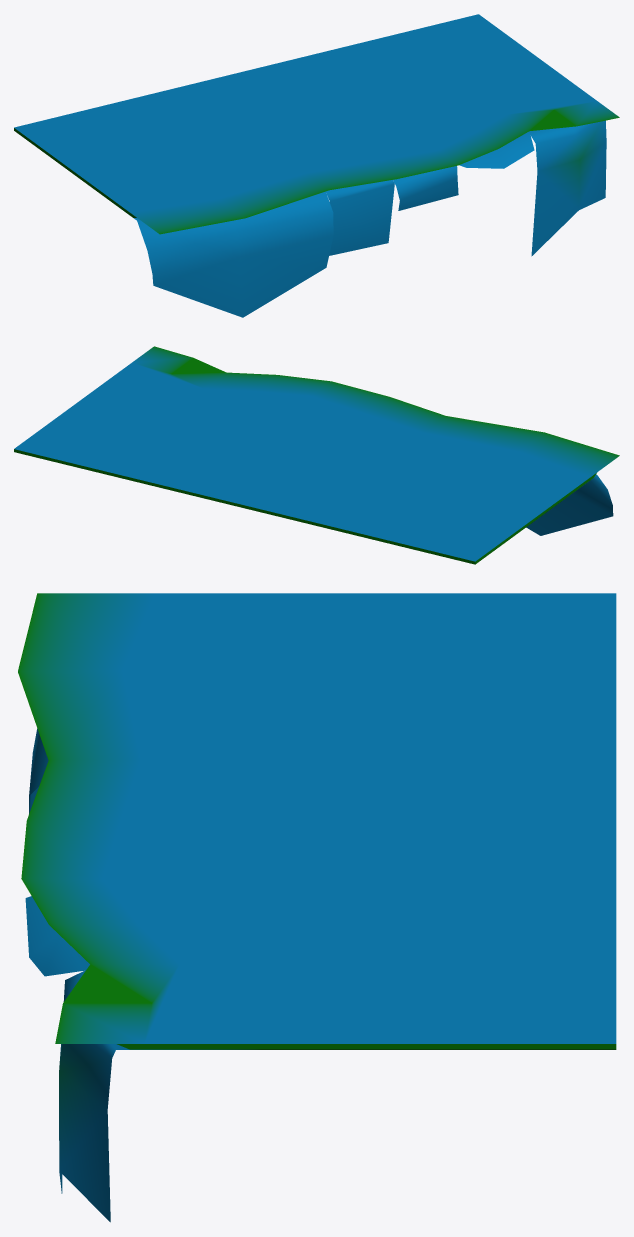
The model's file is DBK_Drywall_Ceiling_Tile_C.fbx.
3 renders of one model, top to bottom at view 1: azimuth 30°, elevation 25°; view 2: azimuth 150°, elevation 25°; view 3: azimuth 270°, elevation 25°, orthographic. The views are drawn at different scales.
Parts seen in each view (by area): view 1: DBK_Drywall_Ceiling_Tile_C; view 2: DBK_Drywall_Ceiling_Tile_C; view 3: DBK_Drywall_Ceiling_Tile_C.
Boxes of the visible parts, bbox=[...] form: DBK_Drywall_Ceiling_Tile_C: bbox=[14, 14, 619, 317]; DBK_Drywall_Ceiling_Tile_C: bbox=[14, 346, 619, 564]; DBK_Drywall_Ceiling_Tile_C: bbox=[18, 593, 616, 1222].
Size of what is drawn, in the model's own units: 300 by 73.57 by 169.
